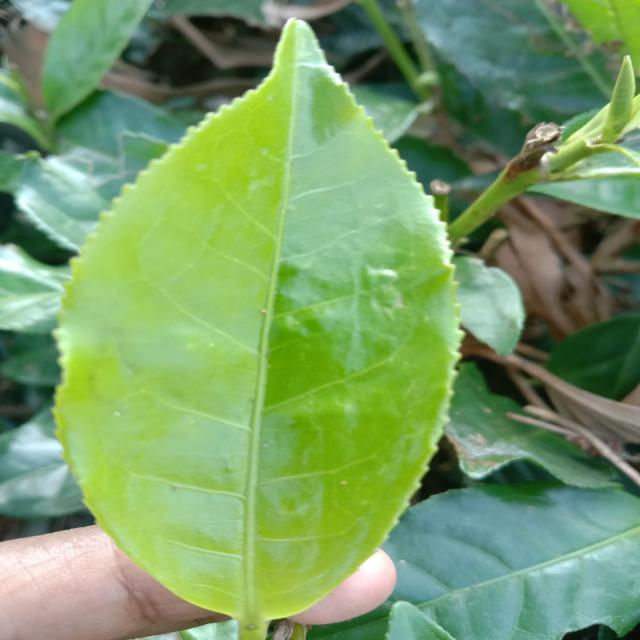Category B 2-4 days: (52, 10, 477, 620)
